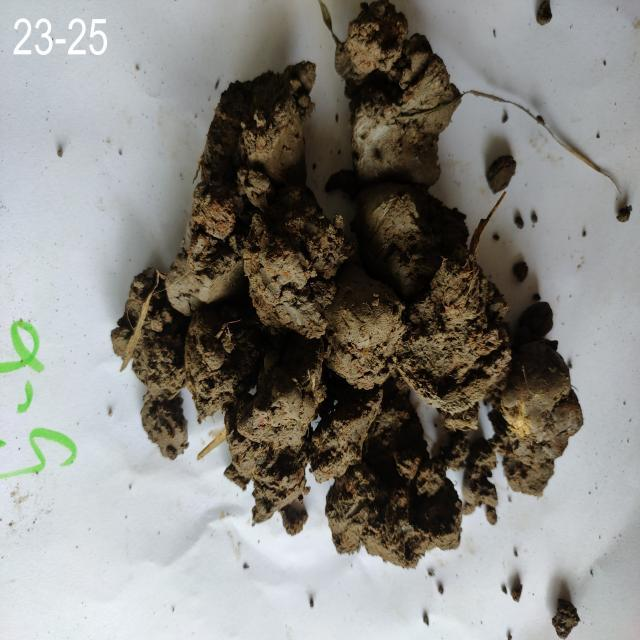soil: (242, 212, 468, 460)
